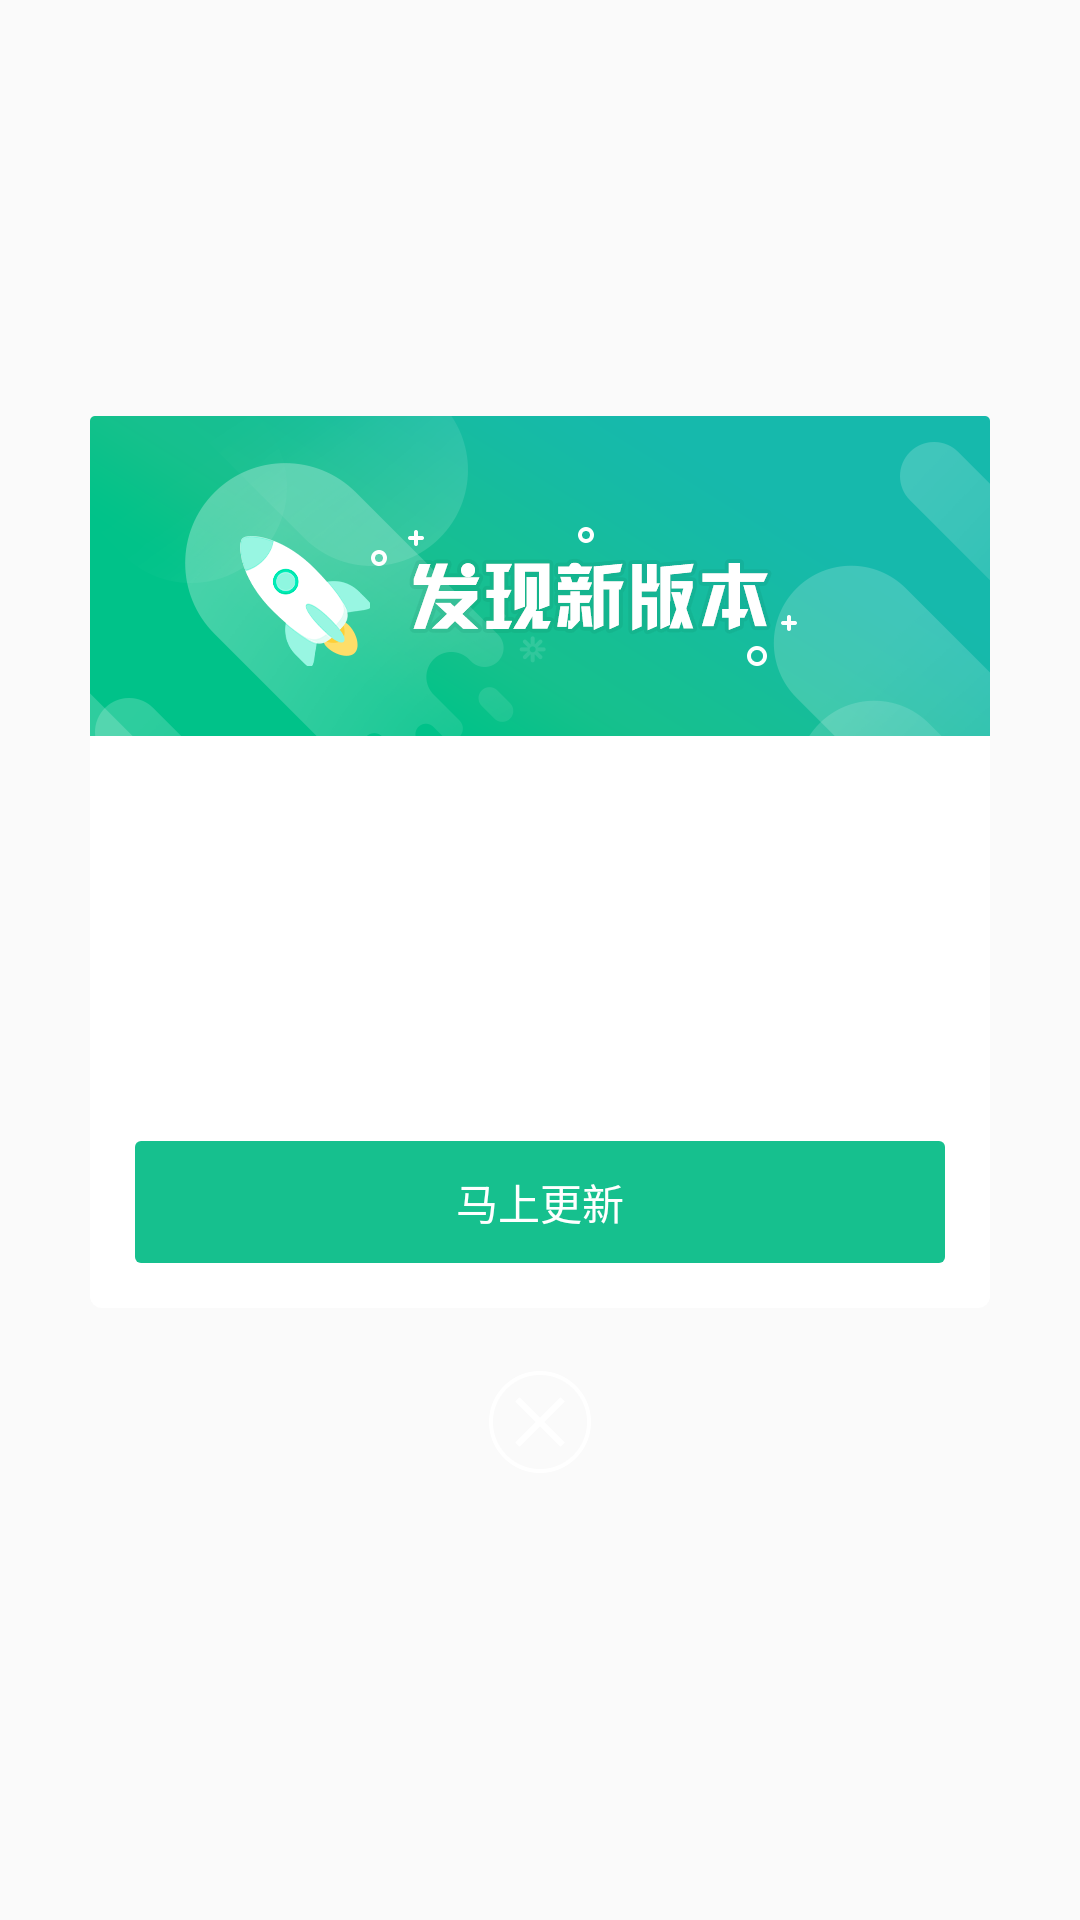

Icons on this 1080 × 1920 Android screen, each with the point to tap as point (x, y):
up pop: point (305, 601)
